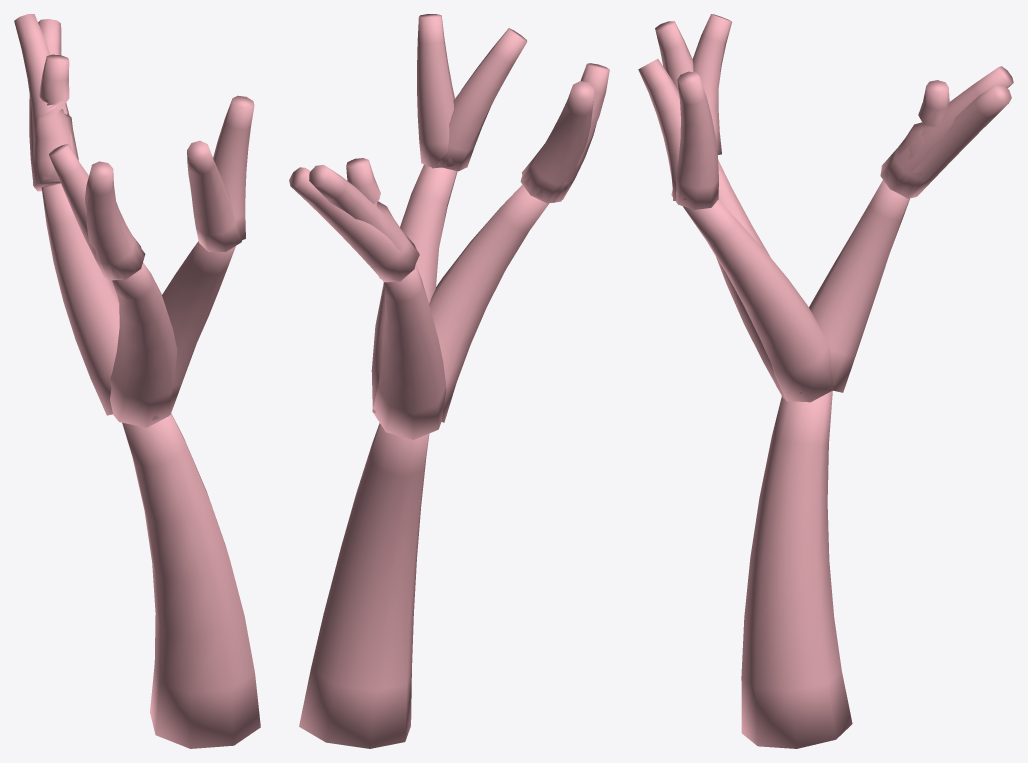
The model's file is SM_Beach_09_CoralFormation.fbx.
The picture shows the model from 3 angles, left to right: view 1: azimuth 30°, elevation 25°; view 2: azimuth 150°, elevation 25°; view 3: azimuth 270°, elevation 25°; orthographic projection. The views are drawn at different scales.
Visible parts, largest first — view 1: SM_Beach_09_CoralFormation; view 2: SM_Beach_09_CoralFormation; view 3: SM_Beach_09_CoralFormation.
Part boxes in pixels (x1=…): SM_Beach_09_CoralFormation: x1=14, y1=14, x2=260, y2=748; SM_Beach_09_CoralFormation: x1=289, y1=14, x2=609, y2=748; SM_Beach_09_CoralFormation: x1=638, y1=14, x2=1013, y2=748.
Size of the model in its own units: 30.53 by 80 by 41.88.
